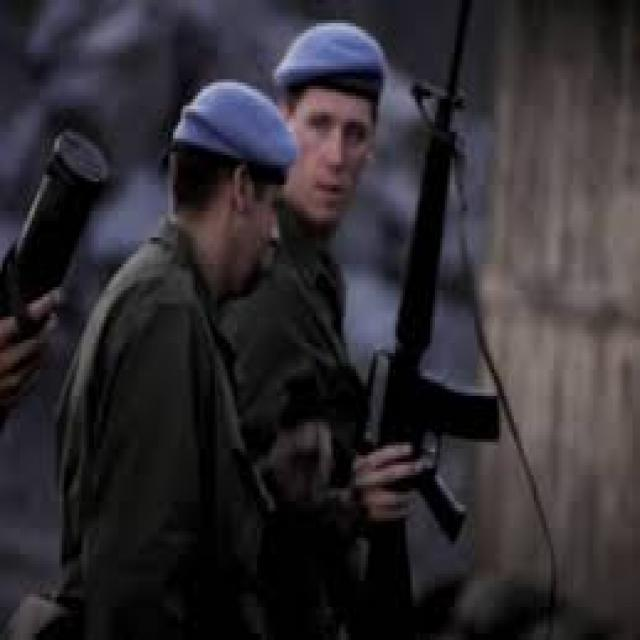weapon: (349, 0, 502, 640)
